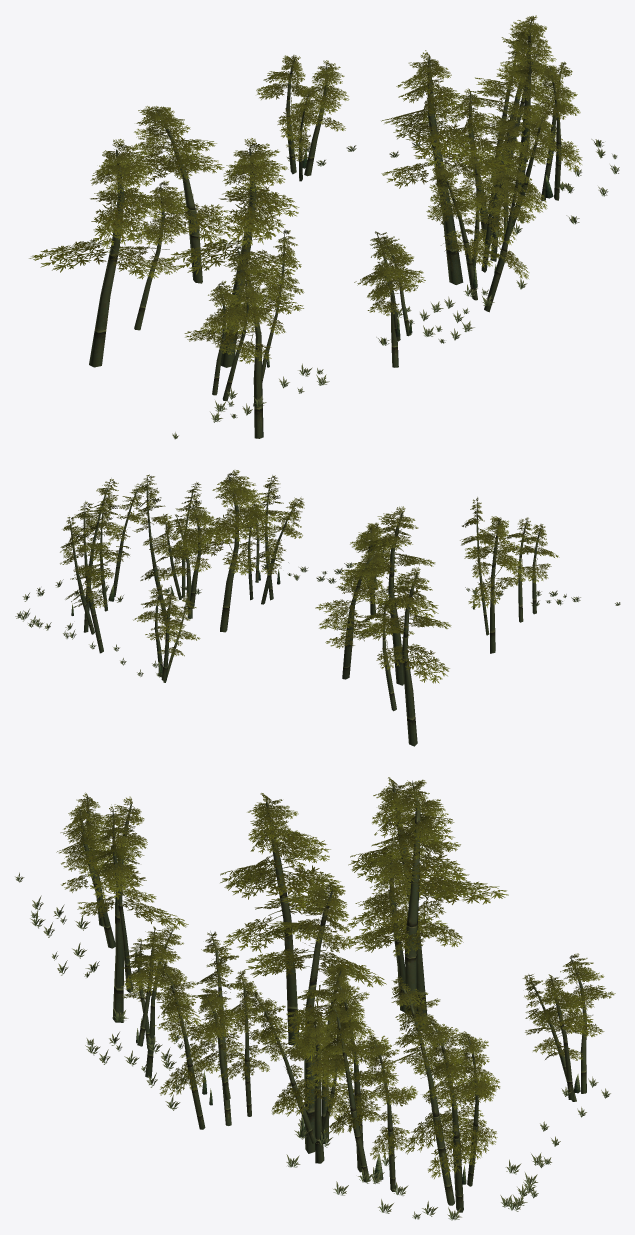
Rendered from Area_15_7.fbx.
3 renders of one model, top to bottom at view 1: azimuth 30°, elevation 25°; view 2: azimuth 150°, elevation 25°; view 3: azimuth 270°, elevation 25°, orthographic. The views are drawn at different scales.
Visible parts, largest first — view 1: Area_15_7; view 2: Area_15_7; view 3: Area_15_7.
Boxes of the visible parts, x1,y1,x2,y2 form: Area_15_7: (29, 15, 619, 439); Area_15_7: (15, 470, 620, 746); Area_15_7: (15, 777, 615, 1220).
Size of the model in its own units: 5470 by 2301 by 4107.
